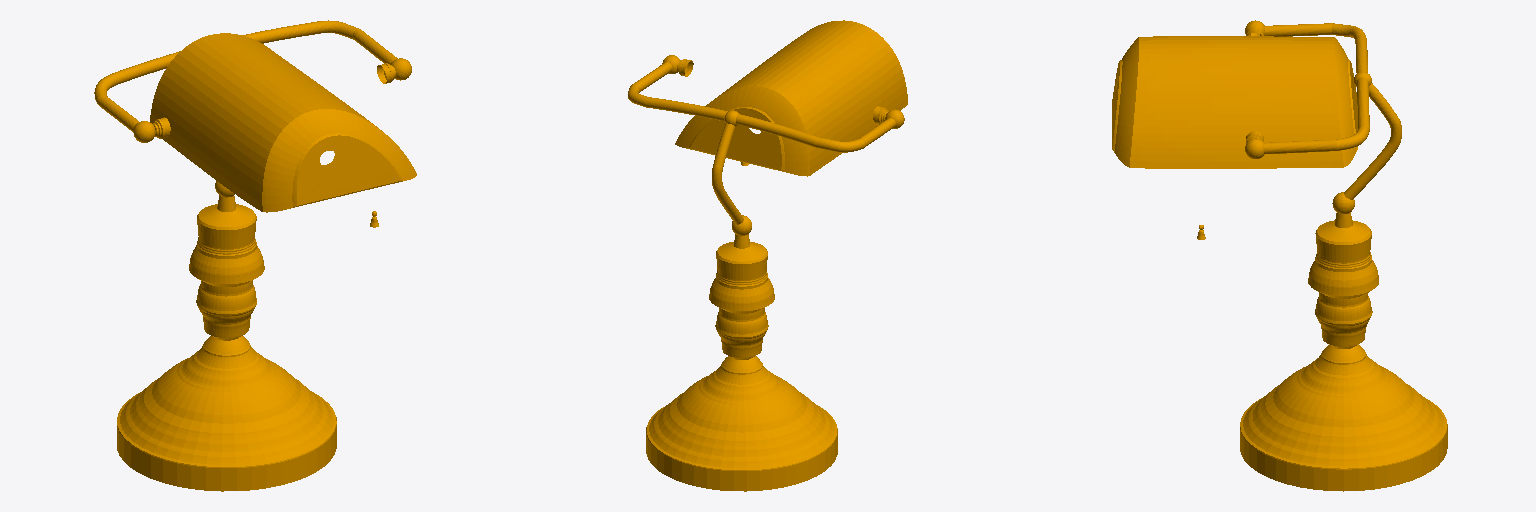
robot.urdf — desklamp:
<robot name="desklamp">
  <link name="desklamp">
    <inertial>
      <origin xyz="0 0 0.0145"/>
      <mass value="0.1" />
      <inertia  ixx="0.0001" ixy="0.0"  ixz="0.0"  iyy="0.0001"  iyz="0.0"  izz="0.0001" />
    </inertial>
    <visual>
      <origin xyz="0 0 0.0145"/>
      <geometry>        
     <mesh filename="desklamp.dae" scale="1 1 1"/>
    </geometry>
    </visual>
    <collision>
      <origin xyz="0 0 0.0145"/>
      <geometry>
        <box size="0.029 0.029 0.029"/>
      </geometry>
    </collision>
  </link>
  <gazebo reference="desklamp">
    <material>Gazebo/Blue</material>
  </gazebo>
</robot>

--- Render facts (derived) ---
The picture shows the robot from 3 angles, left to right: view 1: azimuth 30°, elevation 25°; view 2: azimuth 150°, elevation 25°; view 3: azimuth 270°, elevation 25°; orthographic projection.
Robot: desklamp — 1 links, 0 joints (none); root link desklamp; default pose: all joints at 0.
Visible links, largest first — view 1: desklamp; view 2: desklamp; view 3: desklamp.
Link boxes in pixels (<box>): desklamp: <box>94,20,416,491</box>; desklamp: <box>628,20,907,491</box>; desklamp: <box>1112,20,1447,491</box>.
Bounding box of the posed robot: 0.3159 × 0.3531 × 0.46 m (x, y, z).
Meshes: 1 distinct files referenced, 1 mesh visuals loaded (1 Collada DAE).